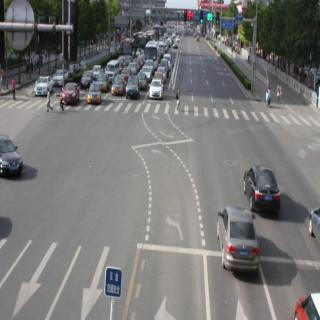BigCar: (145, 40, 160, 67)
Car: (242, 154, 287, 226), (219, 206, 259, 272), (0, 126, 27, 187), (289, 275, 319, 320), (306, 208, 320, 260), (59, 79, 83, 104), (85, 75, 101, 108), (34, 70, 55, 94), (108, 71, 127, 95), (49, 65, 68, 87), (148, 82, 167, 103), (106, 58, 125, 77), (80, 65, 95, 88), (128, 74, 139, 102), (142, 62, 154, 84), (159, 59, 171, 81), (98, 70, 109, 87), (137, 70, 148, 86)
